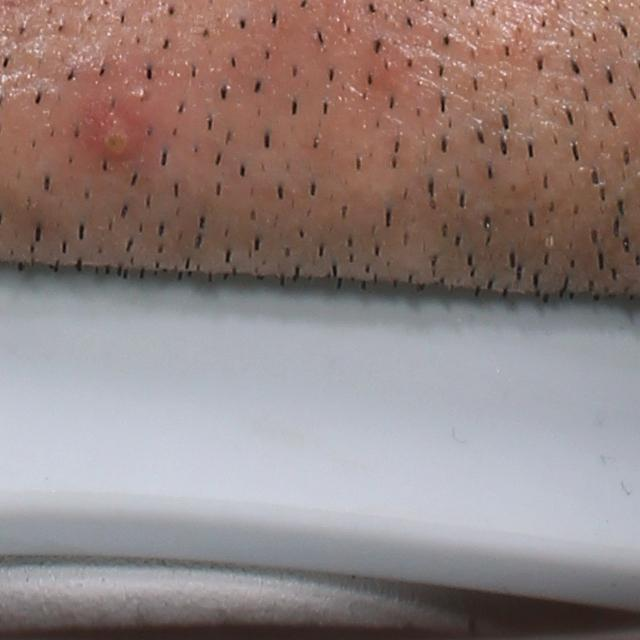pustule: (84, 99, 140, 160)
